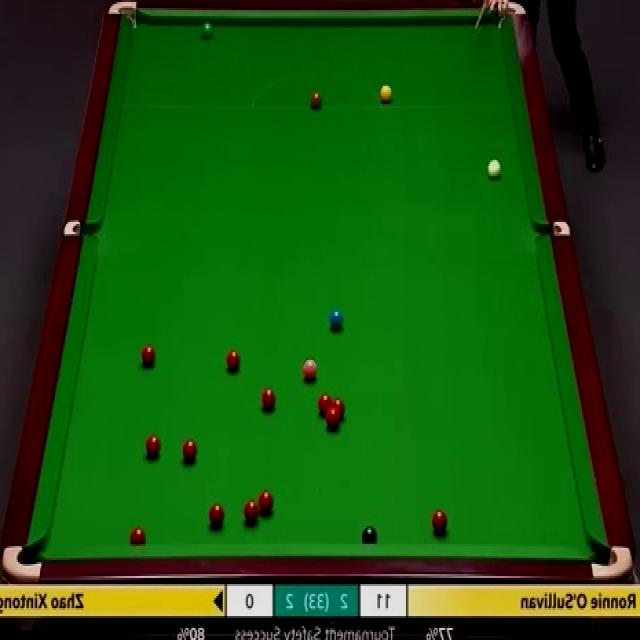black-ball: (360, 523, 378, 545)
blue-ball: (329, 308, 345, 333)
brown-ball: (310, 88, 324, 111)
green-ball: (200, 21, 215, 40)
pink-ball: (302, 354, 317, 382)
red-ball: (242, 497, 260, 528), (224, 348, 242, 377), (209, 503, 226, 529), (146, 433, 163, 458), (258, 489, 274, 515), (260, 387, 276, 413), (182, 439, 198, 463), (141, 343, 156, 368), (432, 508, 446, 534), (318, 394, 332, 418), (130, 526, 146, 546), (326, 410, 339, 430), (332, 398, 345, 418)
white-ball: (488, 157, 502, 181)
yellow-ball: (380, 83, 394, 103)
